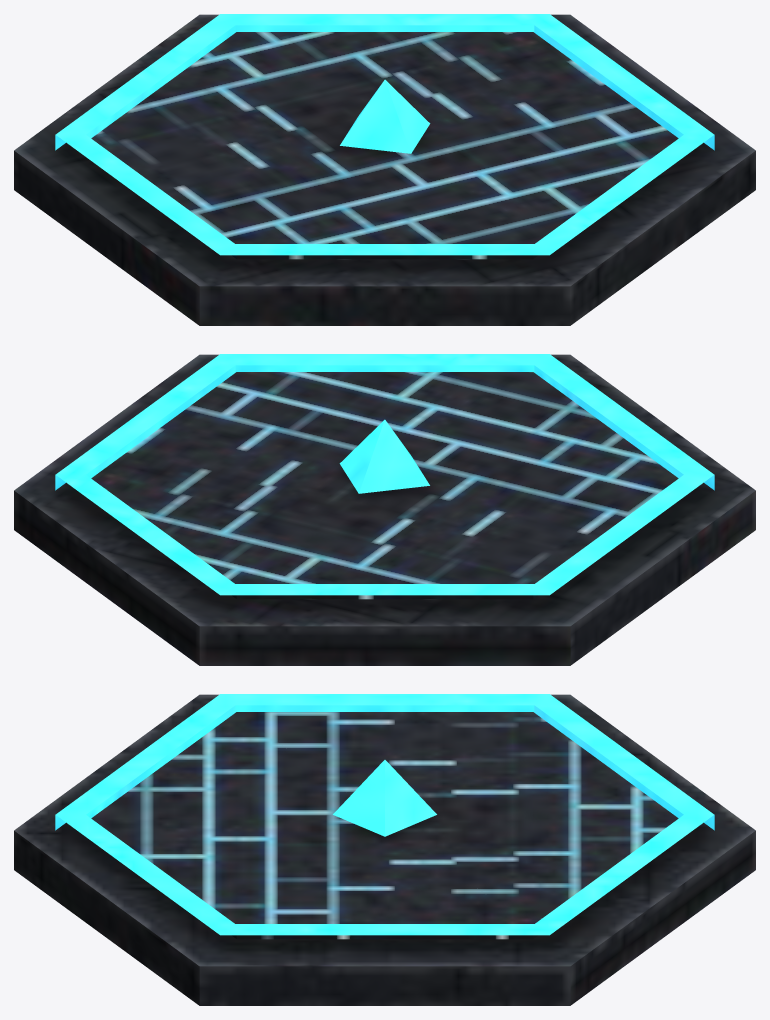
The model's file is pad_w.glb.
3 views of the same model, one above another, from view 1: azimuth 30°, elevation 25°; view 2: azimuth 150°, elevation 25°; view 3: azimuth 270°, elevation 25° (orthographic).
Visible parts, largest first — view 1: pad_w; view 2: pad_w; view 3: pad_w.
Boxes of the visible parts, x1,y1,x2,y2 form: pad_w: [14, 14, 755, 325]; pad_w: [14, 354, 755, 665]; pad_w: [14, 694, 755, 1005].
Bounding box in the file's own units: 1.47 × 0.28 × 1.7.
1 material, 1 textured.
